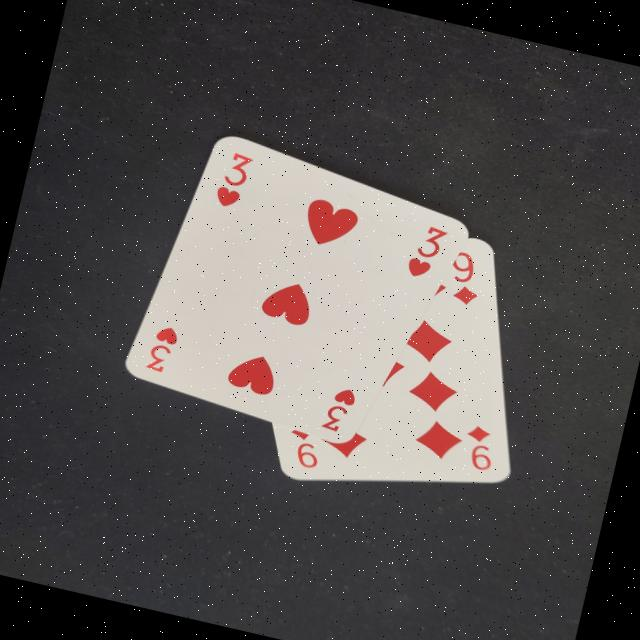3h: (398, 214, 454, 284), (208, 142, 258, 214), (136, 314, 186, 380), (316, 378, 360, 436)
9d: (438, 244, 493, 310), (451, 415, 504, 475), (276, 420, 326, 471)
